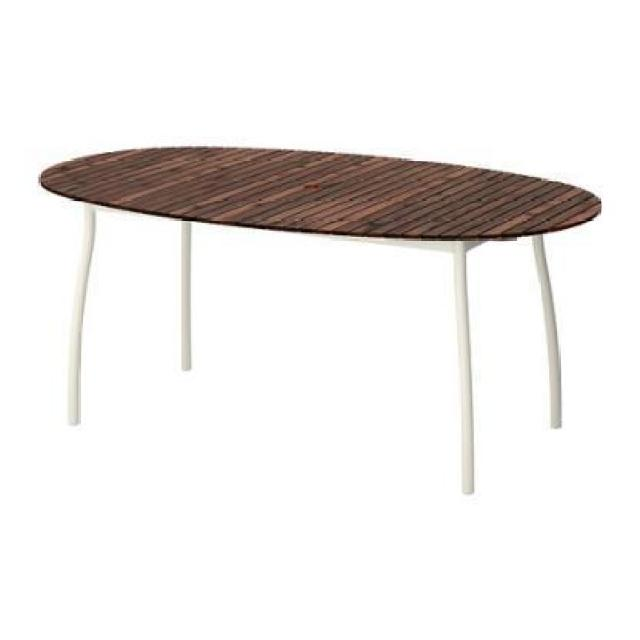tables: (37, 143, 601, 494)
